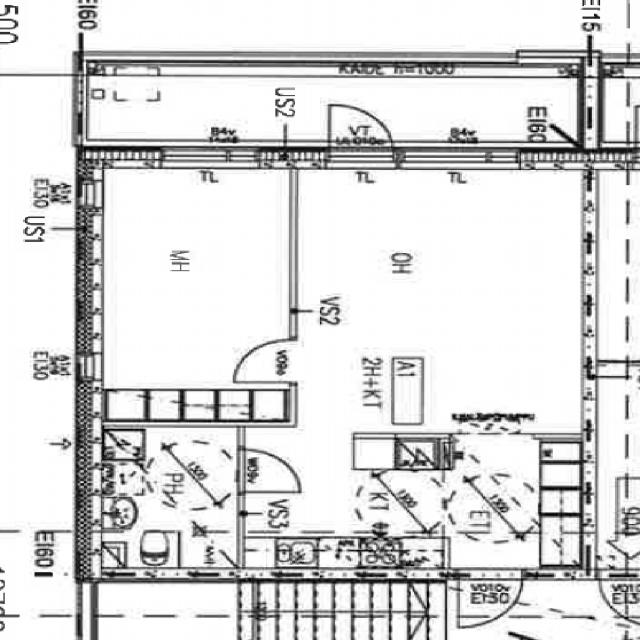door: (329, 100, 392, 168), (458, 569, 522, 627), (232, 340, 297, 383), (237, 450, 302, 492)
